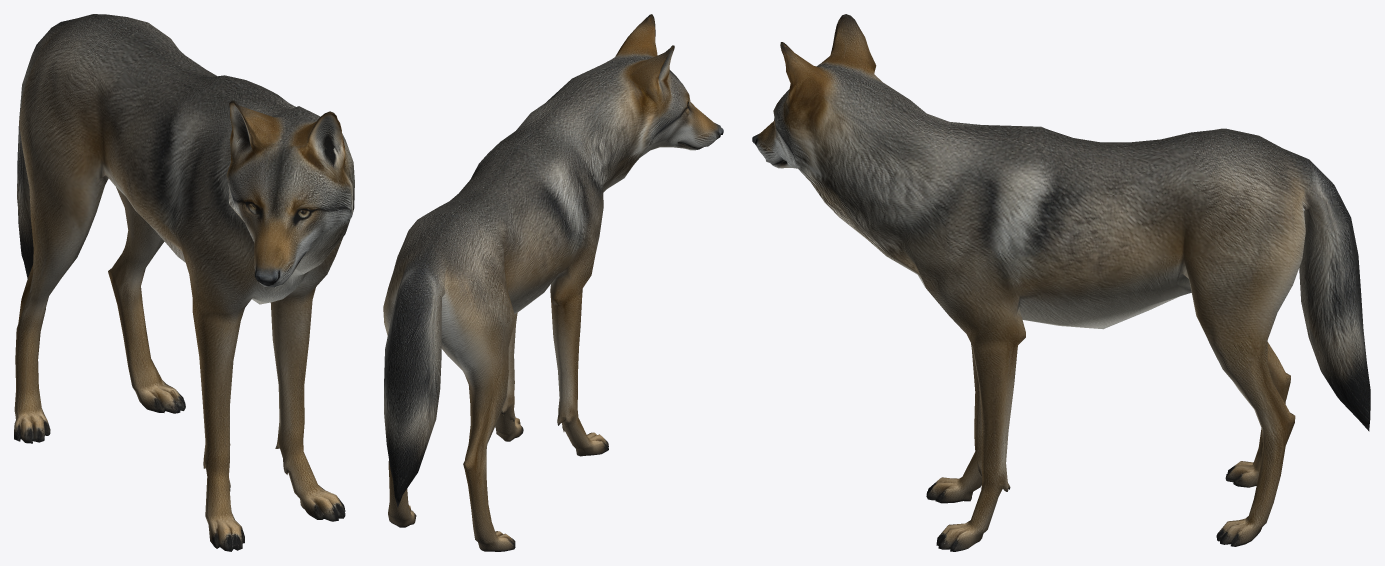
Rendered from kurt.glb.
The picture shows the model from 3 angles, left to right: view 1: azimuth 30°, elevation 25°; view 2: azimuth 150°, elevation 25°; view 3: azimuth 270°, elevation 25°; orthographic projection. The views are drawn at different scales.
Size of the model in its own units: 0.3169 by 0.7915 by 0.959.
Materials: 1 (1 with a texture image).
